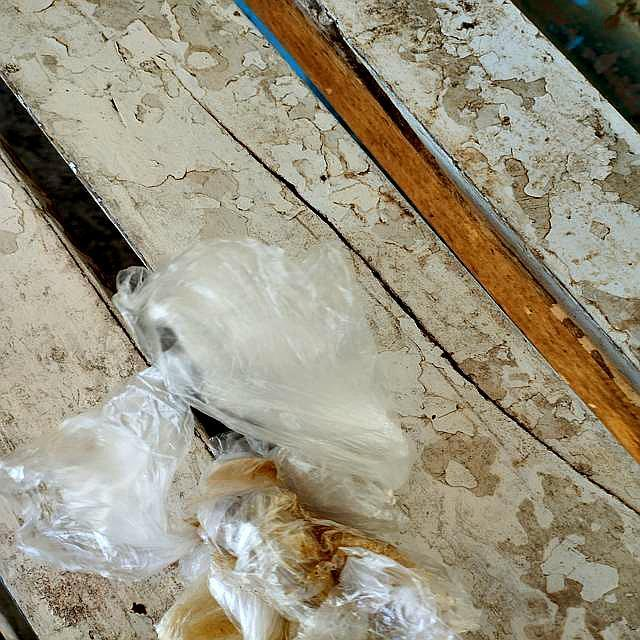Non-biodegradable: (1, 231, 469, 640)
